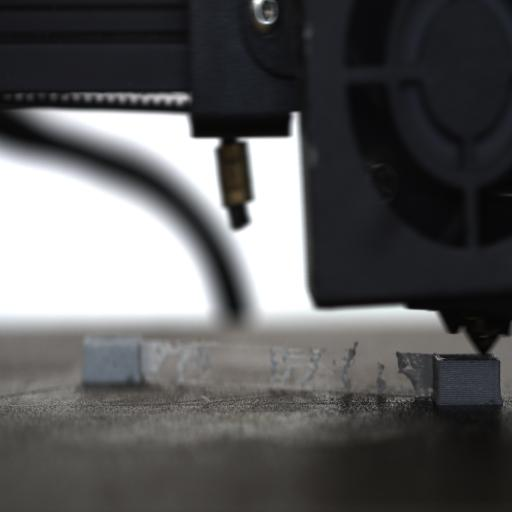stringing: (169, 341, 214, 386), (396, 352, 434, 396), (142, 339, 174, 385), (335, 341, 359, 392), (300, 346, 326, 390), (268, 346, 283, 386), (374, 362, 388, 395), (135, 342, 143, 384)
